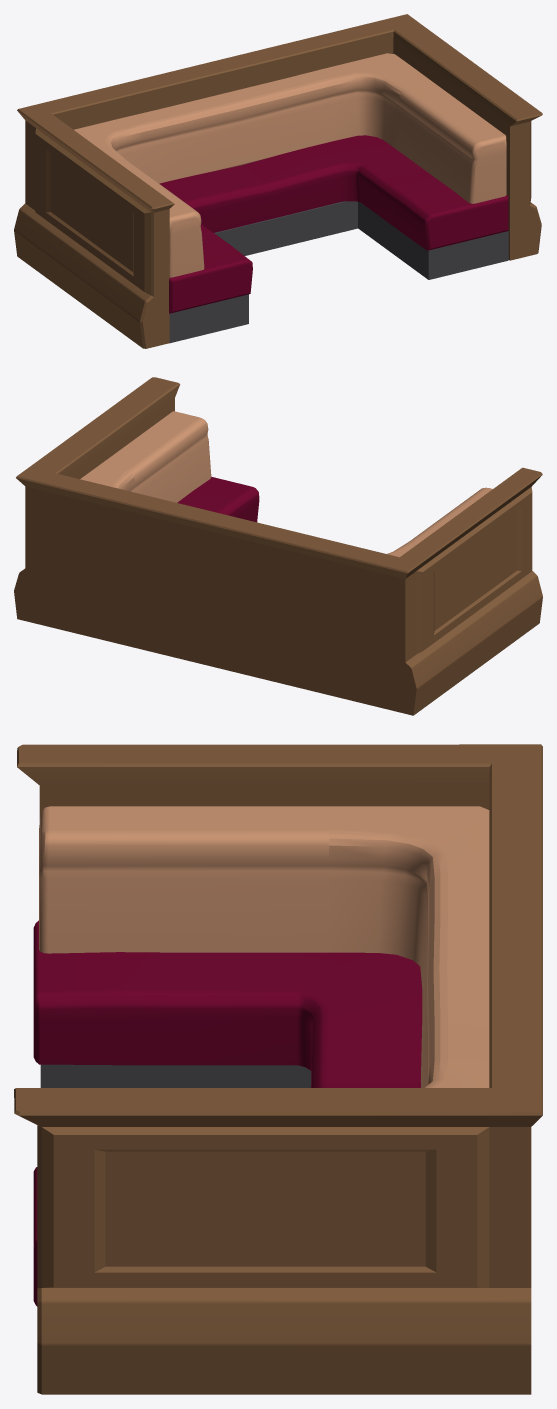
File: seat with wood backing.fbx
The picture shows the model from 3 angles, top to bottom: view 1: azimuth 30°, elevation 25°; view 2: azimuth 150°, elevation 25°; view 3: azimuth 270°, elevation 25°; orthographic projection. The views are drawn at different scales.
Parts seen in each view (by area): view 1: pCube12, polySurface7, polySurface9, polySurface8; view 2: pCube12, polySurface7, polySurface9; view 3: pCube12, polySurface7, polySurface9, polySurface8.
Boxes of the visible parts, x1,y1,x2,y2 form: pCube12: (14,14,542,348); polySurface7: (74,53,506,277); polySurface9: (159,135,508,313); polySurface8: (169,201,508,343); pCube12: (14,377,542,715); polySurface7: (80,411,492,557); polySurface9: (177,476,259,522); pCube12: (14,744,542,1394); polySurface7: (39,806,489,1087); polySurface9: (33,920,422,1306); polySurface8: (40,1064,311,1087).
Bounding box in the file's own units: 6.98 × 2.41 × 4.11.
